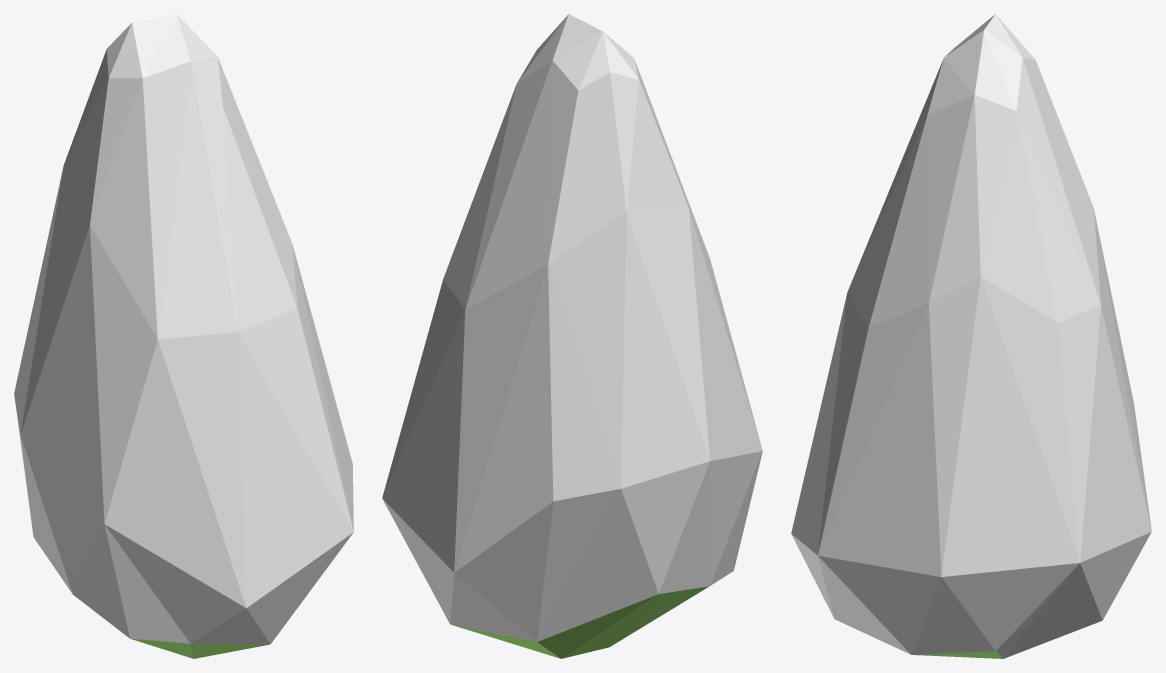
The model's file is Thuja_BushTree_s_Snow_02.fbx.
The picture shows the model from 3 angles, left to right: view 1: azimuth 30°, elevation 25°; view 2: azimuth 150°, elevation 25°; view 3: azimuth 270°, elevation 25°; orthographic projection. The views are drawn at different scales.
Parts seen in each view (by area): view 1: Thuja_BushTree_s_Snow_02; view 2: Thuja_BushTree_s_Snow_02; view 3: Thuja_BushTree_s_Snow_02.
Boxes of the visible parts, x1,y1,x2,y2 form: Thuja_BushTree_s_Snow_02: (14,14,353,658); Thuja_BushTree_s_Snow_02: (382,14,762,658); Thuja_BushTree_s_Snow_02: (791,14,1151,658).
Bounding box in the file's own units: 139 × 270 × 144.
